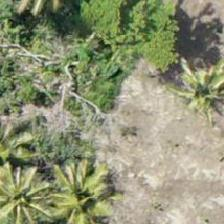coconut_tree: (38, 157, 128, 223), (160, 51, 223, 141), (0, 158, 64, 223)
